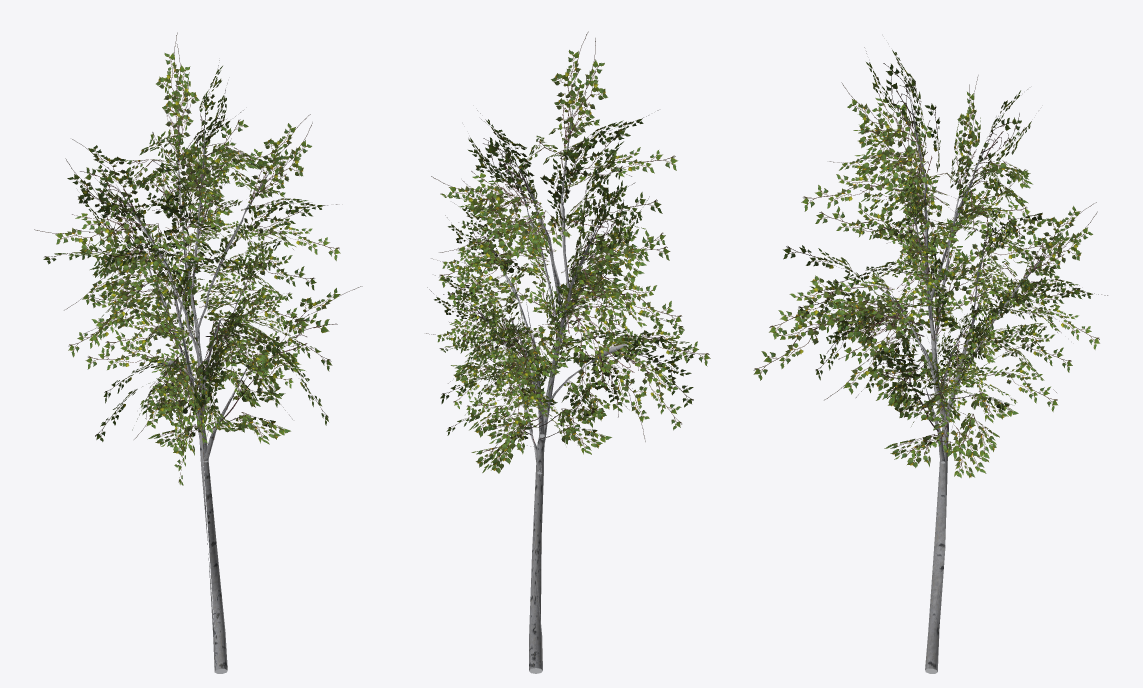
File: birch_lod1_uncompressed.glb
The picture shows the model from 3 angles, left to right: view 1: azimuth 30°, elevation 25°; view 2: azimuth 150°, elevation 25°; view 3: azimuth 270°, elevation 25°; orthographic projection.
Visible parts, largest first — view 1: birch_lod1_foliage, birch_lod1_bark; view 2: birch_lod1_foliage, birch_lod1_bark; view 3: birch_lod1_foliage, birch_lod1_bark.
Boxes of the visible parts, x1=… form: birch_lod1_foliage: x1=34, y1=32, x2=362, y2=485; birch_lod1_bark: x1=116, y1=107, x2=270, y2=673; birch_lod1_foliage: x1=426, y1=31, x2=710, y2=473; birch_lod1_bark: x1=469, y1=105, x2=634, y2=673; birch_lod1_foliage: x1=753, y1=47, x2=1107, y2=477; birch_lod1_bark: x1=869, y1=94, x2=1050, y2=673.
Bounding box in the file's own units: 2.27 × 5 × 2.73.
Materials: 2 (2 with a texture image).
